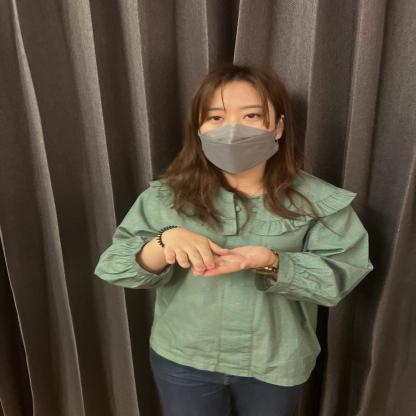Love: (114, 159, 312, 359)
